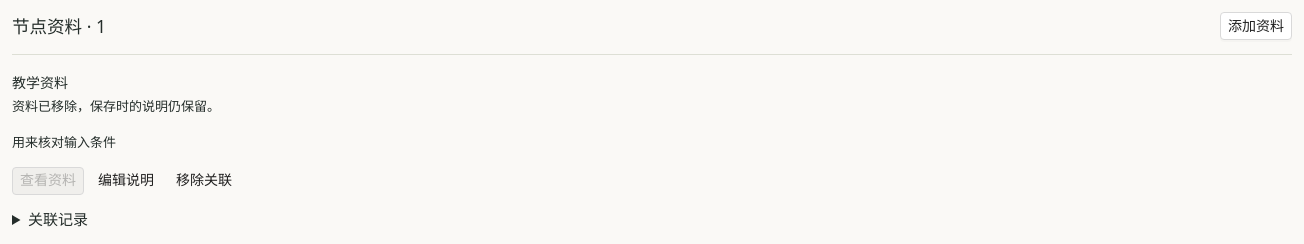
Scenario: source removal preserves the attachment note while unlinking removes only its association
The image size is (1304, 244).
Expected: the text "用来核对输入条件" is shown, top-left (12, 133), bottom-right (116, 151)
Expected: the button "查看资料" is disabled, top-left (12, 167), bottom-right (84, 195)
Click the button "移除关联" at (204, 181), box top-left (168, 167), bottom-right (240, 195)
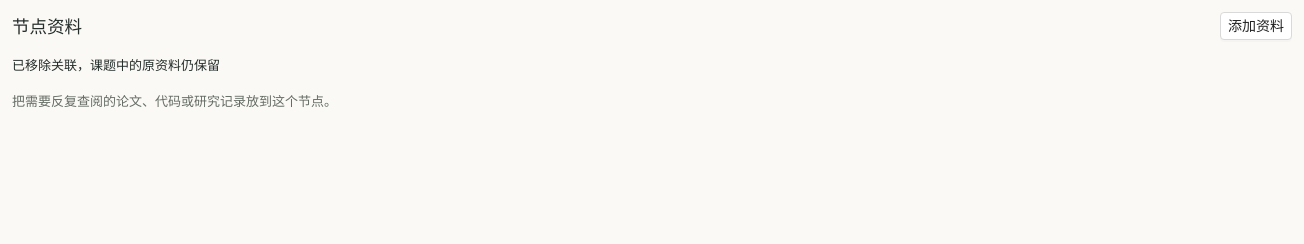
Expected: the text "已移除关联，课题中的原资料仍保留" is shown, top-left (12, 56), bottom-right (220, 74)
